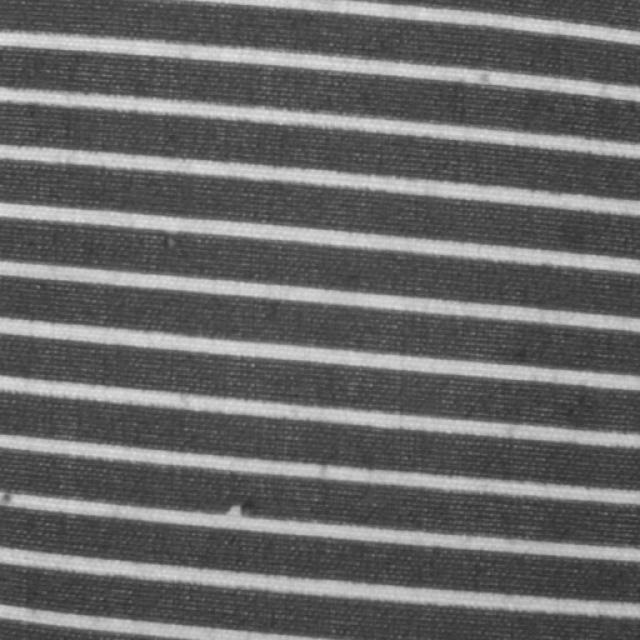Thread-Defect: (220, 502, 252, 530)
